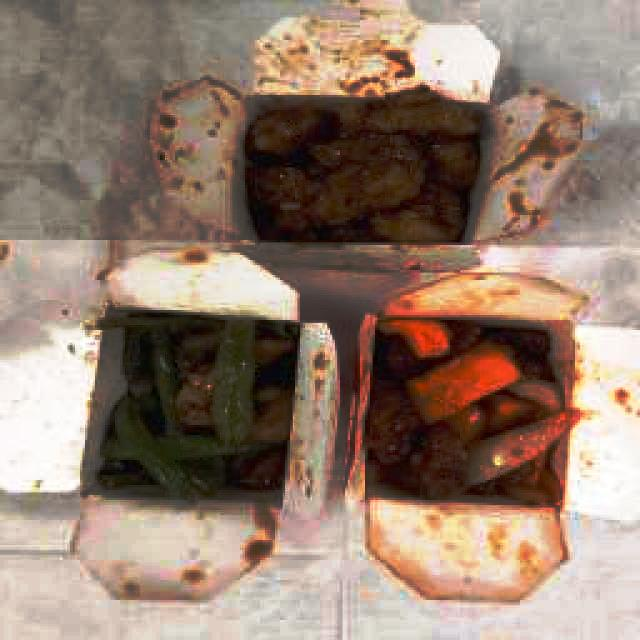Beijing Beef: (355, 288, 588, 528), (241, 83, 486, 245)
